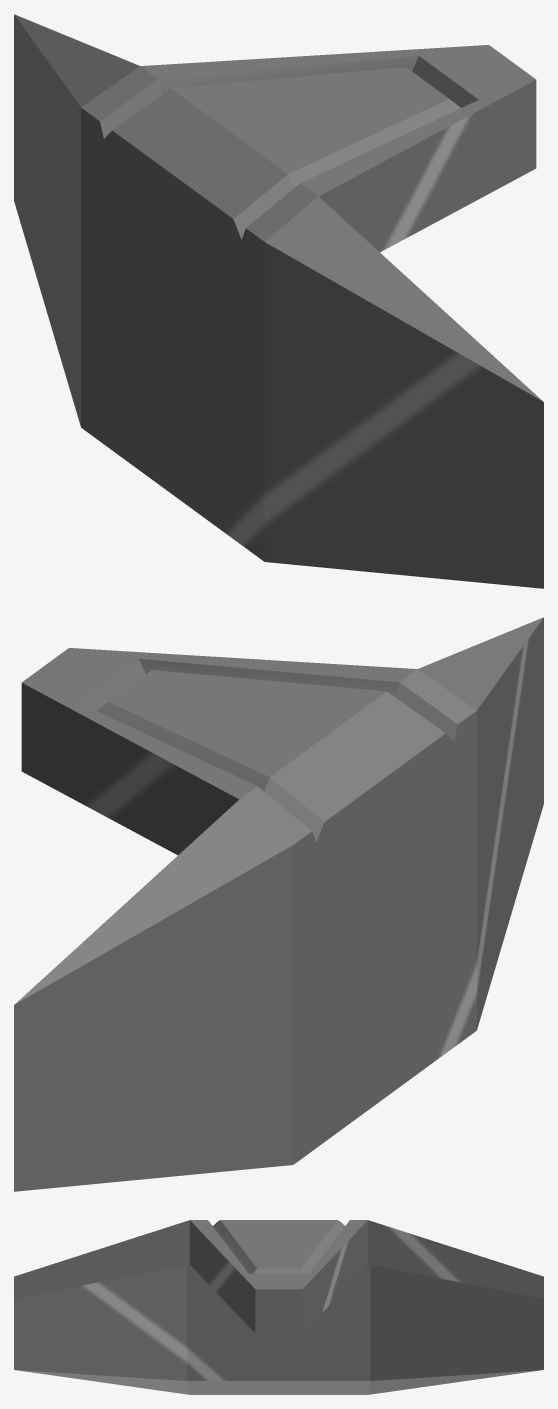
File: Energy-Collector-Type-Omega-Chevron.obj
3 views of the same model, one above another, from view 1: azimuth 30°, elevation 25°; view 2: azimuth 150°, elevation 25°; view 3: azimuth 270°, elevation 25° (orthographic). The views are drawn at different scales.
Visible parts, largest first — view 1: Energy-Collector-Type-Omega-Chevron; view 2: Energy-Collector-Type-Omega-Chevron; view 3: Energy-Collector-Type-Omega-Chevron.
Part boxes in pixels (bbox=[...]): Energy-Collector-Type-Omega-Chevron: bbox=[14, 14, 543, 588]; Energy-Collector-Type-Omega-Chevron: bbox=[14, 617, 543, 1191]; Energy-Collector-Type-Omega-Chevron: bbox=[14, 1220, 543, 1394].
Size of the model in its own units: 0.6 by 0.59 by 1.62.
